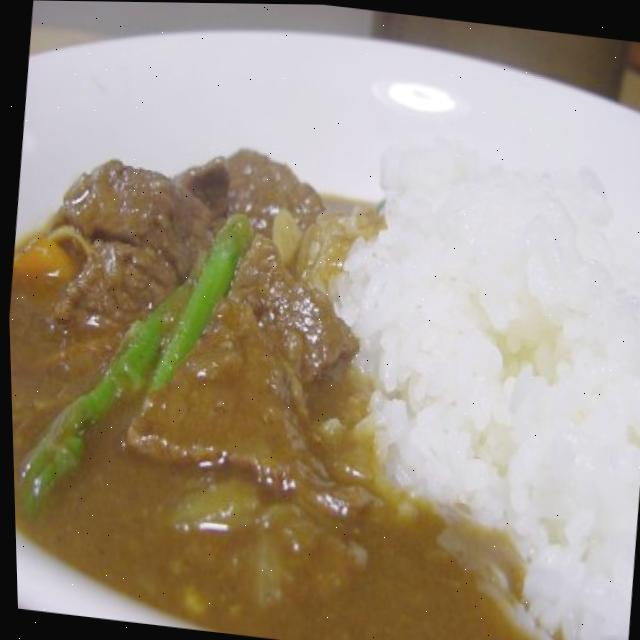牛肉菜式: (1, 59, 640, 640)
